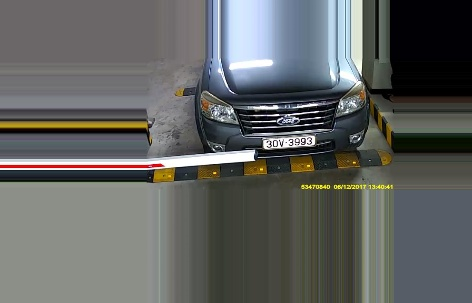plate: (262, 134, 315, 149)
